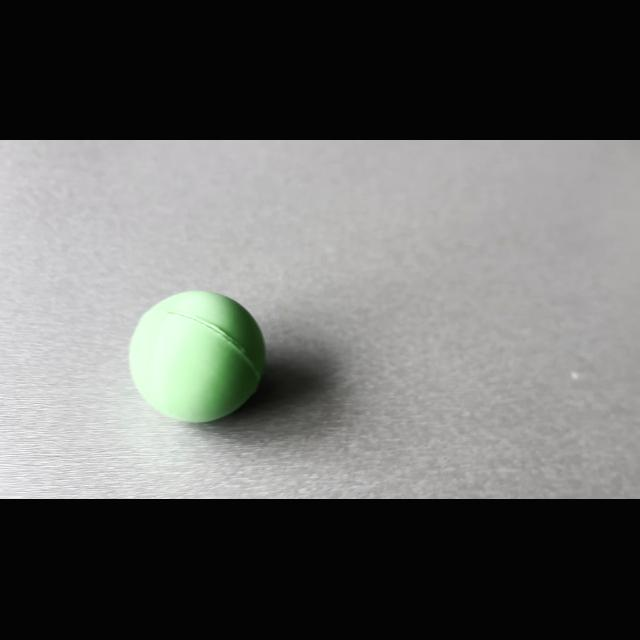objects: (121, 280, 276, 432)
